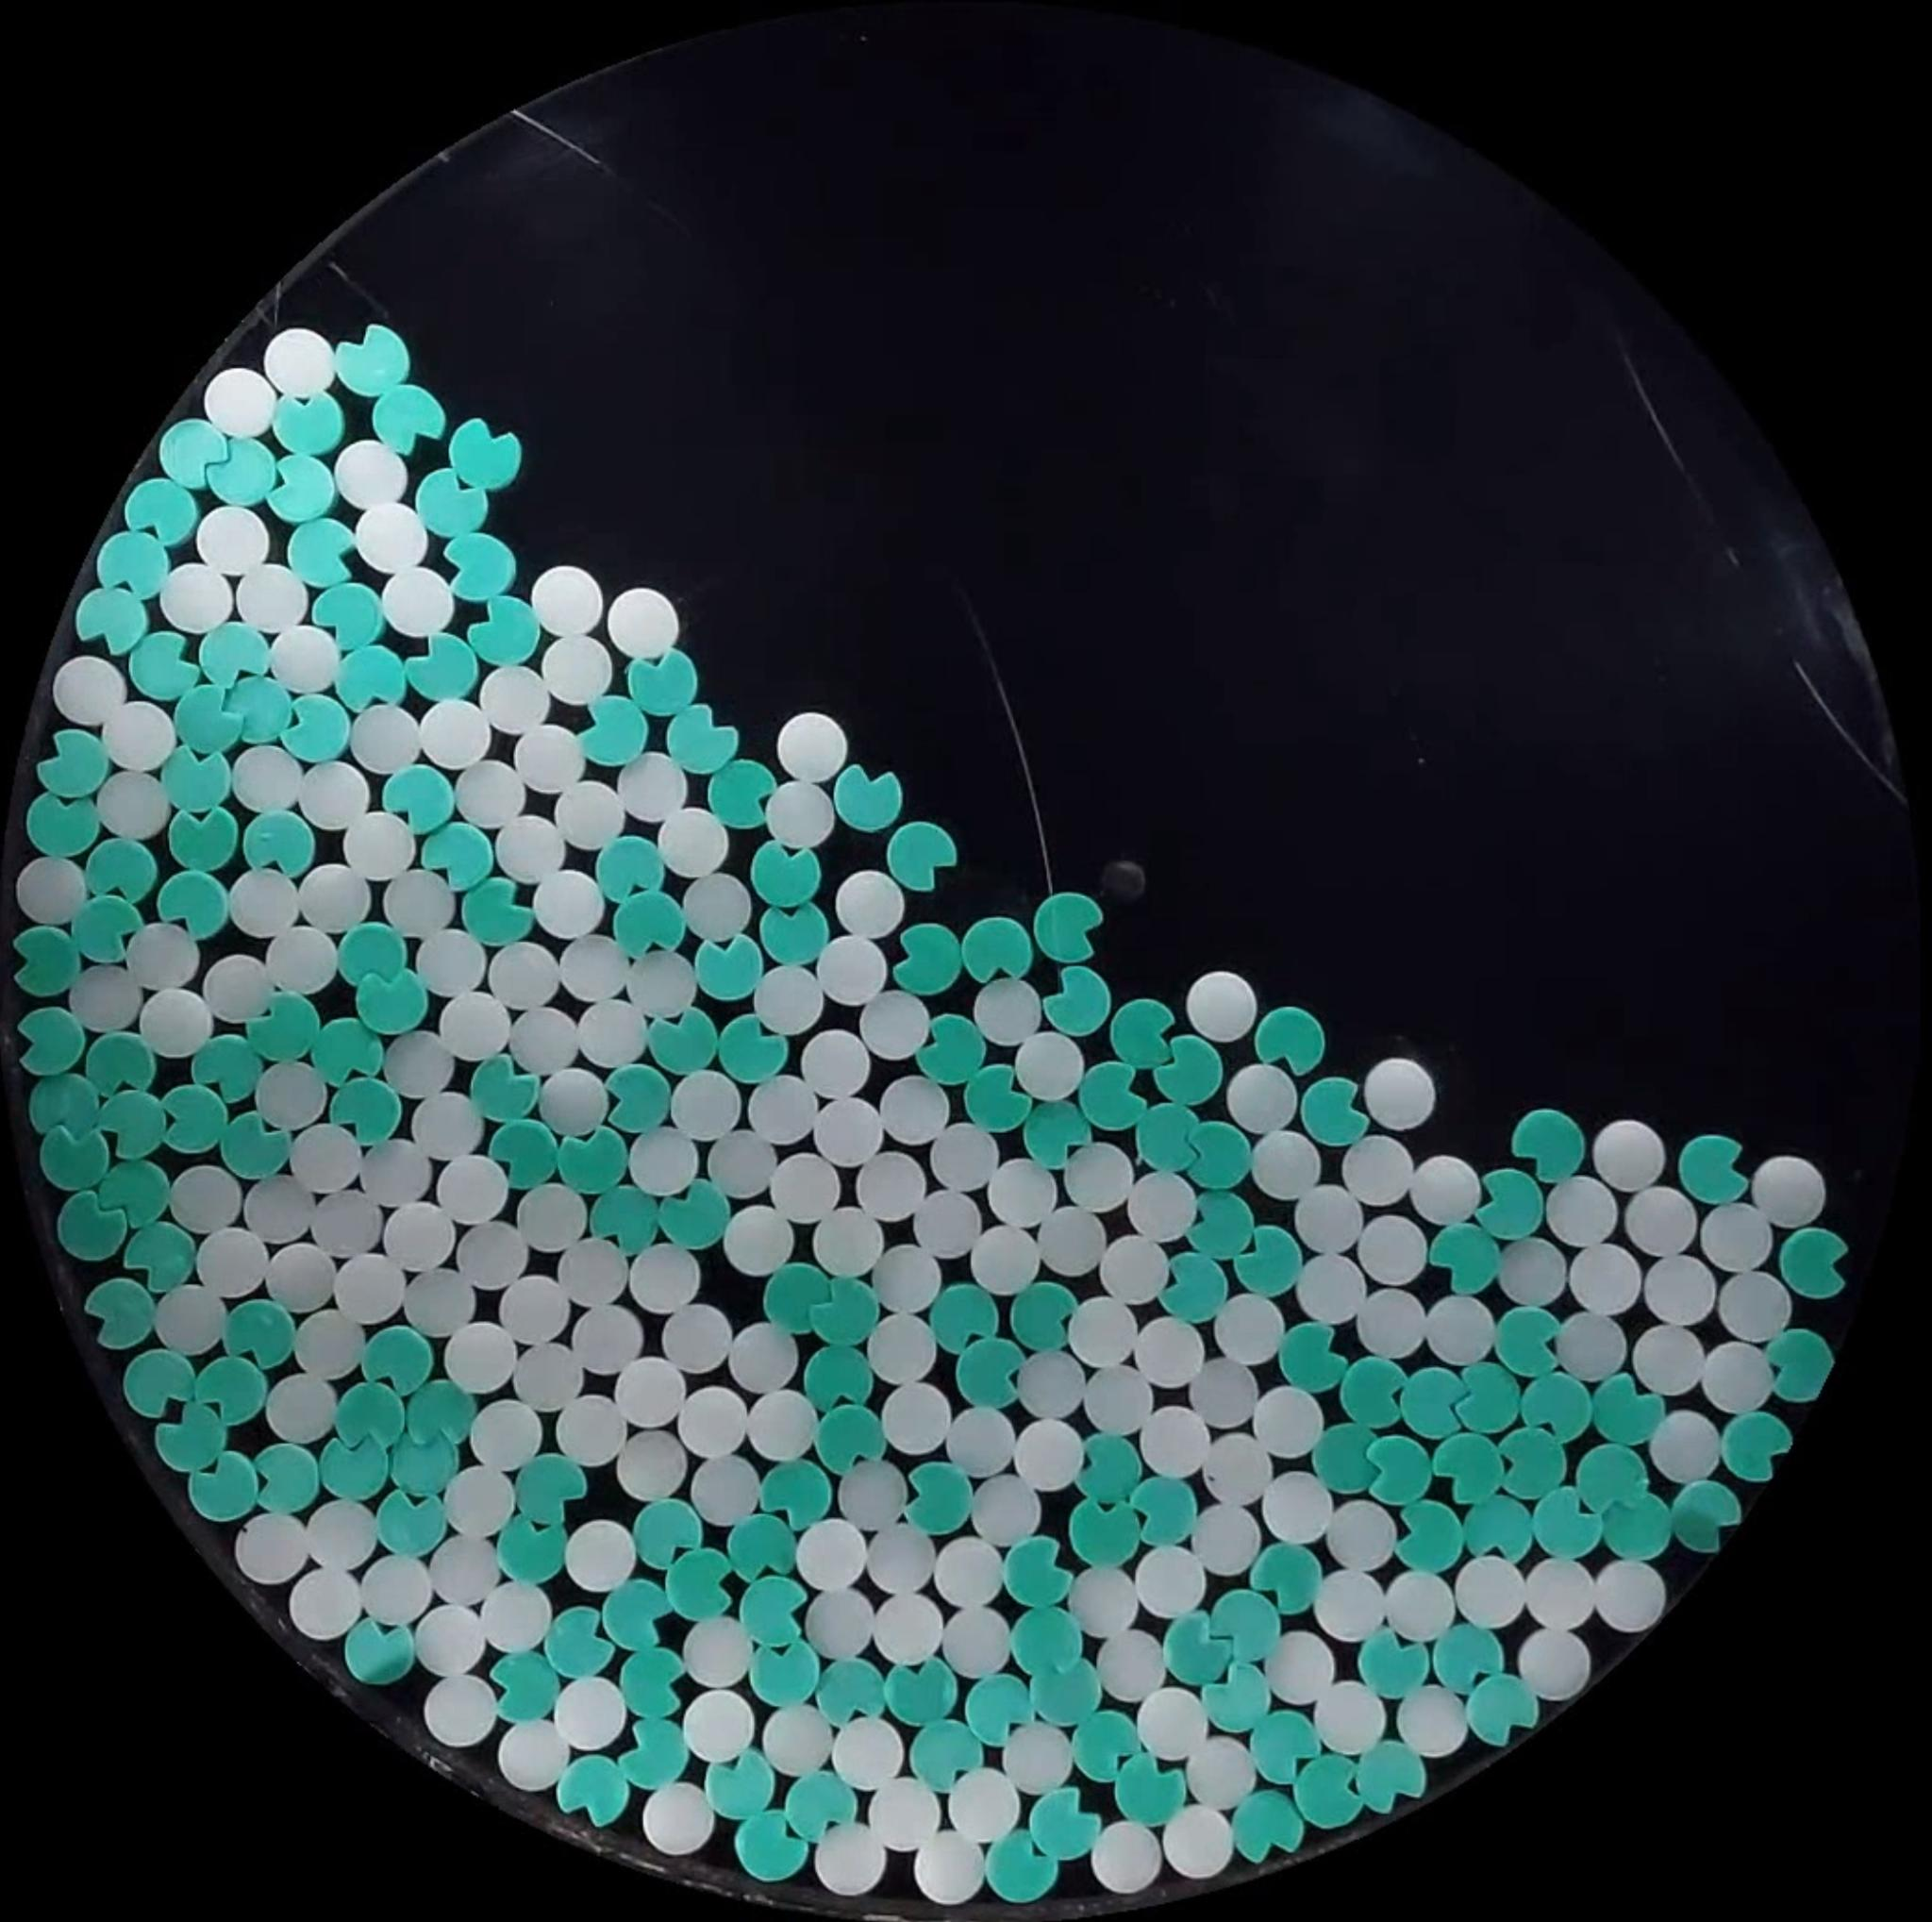disco-pmma: (1008, 1399, 1091, 1489), (904, 1183, 992, 1265), (1309, 1667, 1390, 1757), (419, 922, 501, 1005), (1200, 1427, 1283, 1510), (392, 1081, 484, 1155), (457, 1214, 538, 1297), (1188, 1352, 1267, 1436), (282, 1119, 370, 1195), (294, 1302, 375, 1383), (494, 1265, 575, 1346), (1351, 1218, 1432, 1299), (1124, 1163, 1204, 1246), (860, 1519, 943, 1598), (1073, 1288, 1151, 1371), (936, 1600, 1015, 1679), (1353, 1280, 1431, 1361), (1311, 1566, 1390, 1644), (1638, 1251, 1717, 1329), (311, 1177, 389, 1257), (514, 1332, 593, 1410), (1258, 1464, 1337, 1542), (1747, 1153, 1828, 1229), (943, 1399, 1024, 1475), (929, 1531, 1005, 1612), (1253, 1128, 1339, 1199), (1517, 1623, 1594, 1700), (553, 1674, 630, 1751), (194, 1225, 271, 1302), (413, 1600, 491, 1677), (422, 1672, 500, 1750), (1086, 1357, 1163, 1434), (1631, 1320, 1710, 1396), (964, 1471, 1047, 1544), (1219, 1287, 1290, 1371), (1698, 1339, 1775, 1415), (1589, 1118, 1666, 1193), (287, 1565, 364, 1640), (494, 1716, 572, 1792), (1267, 1628, 1343, 1706), (739, 1387, 818, 1461), (1022, 1343, 1094, 1424), (1065, 1563, 1145, 1635), (760, 1149, 843, 1220), (961, 1221, 1045, 1290), (227, 866, 303, 942), (333, 1250, 408, 1325), (1379, 1568, 1455, 1644), (795, 1517, 871, 1593), (640, 1779, 716, 1855), (567, 1301, 642, 1376), (1453, 1552, 1529, 1628), (100, 697, 176, 773), (1716, 1267, 1791, 1343), (1566, 1239, 1642, 1315), (1133, 1544, 1207, 1621), (468, 1397, 545, 1471), (137, 984, 215, 1058), (1698, 1200, 1775, 1274), (926, 1125, 1003, 1199), (267, 1246, 347, 1318), (563, 1517, 637, 1593), (1364, 1056, 1439, 1130), (760, 1702, 836, 1776), (1591, 1558, 1666, 1632), (1138, 1403, 1212, 1478), (871, 1588, 947, 1662), (1135, 1684, 1209, 1760), (236, 1510, 311, 1584), (681, 1688, 757, 1762), (947, 1767, 1021, 1843), (1647, 1408, 1721, 1484), (51, 653, 127, 727), (1181, 1735, 1256, 1809), (1624, 1185, 1700, 1258), (428, 1533, 501, 1609), (1255, 1382, 1328, 1457), (1529, 1558, 1605, 1632), (443, 1320, 521, 1392), (352, 500, 429, 572), (357, 1554, 435, 1626), (1161, 1804, 1233, 1882), (354, 1137, 431, 1209), (1230, 1067, 1309, 1137), (609, 1359, 690, 1427), (477, 1581, 558, 1649), (1283, 1183, 1365, 1250), (867, 1778, 941, 1852), (676, 1385, 750, 1459), (801, 1026, 875, 1100), (1332, 1496, 1406, 1570), (1543, 1169, 1617, 1243), (417, 697, 493, 769), (296, 759, 371, 831), (554, 778, 630, 850), (493, 813, 568, 885), (538, 632, 614, 704), (626, 1243, 702, 1315), (656, 806, 732, 878), (267, 621, 343, 693), (382, 1200, 457, 1273), (296, 862, 371, 935), (378, 565, 454, 637), (95, 767, 171, 840), (811, 1093, 887, 1165), (333, 440, 410, 510), (194, 505, 271, 576), (229, 743, 306, 813), (169, 1162, 248, 1230), (815, 933, 889, 1005), (607, 586, 681, 658), (382, 866, 456, 938), (264, 327, 338, 400), (1423, 1292, 1497, 1364), (127, 921, 201, 993), (253, 1060, 327, 1132), (681, 1616, 755, 1688), (350, 701, 424, 773), (480, 664, 554, 736), (201, 952, 274, 1024), (14, 854, 86, 928), (1341, 1132, 1415, 1204), (1397, 1684, 1471, 1757), (869, 1315, 943, 1387), (1561, 1309, 1635, 1382), (436, 991, 512, 1061), (487, 940, 563, 1010), (531, 868, 607, 938), (831, 1716, 906, 1786), (530, 565, 605, 635), (158, 563, 234, 634), (670, 1068, 746, 1139), (148, 1285, 225, 1353), (405, 1267, 482, 1336), (556, 1387, 625, 1464), (239, 1179, 320, 1244), (1184, 970, 1256, 1042), (574, 996, 646, 1068), (454, 757, 526, 829), (683, 871, 755, 943), (1131, 1315, 1204, 1387), (815, 1823, 887, 1896), (913, 1830, 985, 1903), (809, 1197, 882, 1269), (728, 1206, 801, 1278), (801, 1584, 873, 1656), (234, 561, 308, 632), (264, 1371, 338, 1441), (765, 778, 839, 848), (204, 366, 278, 436), (433, 1153, 507, 1223), (69, 963, 143, 1033), (614, 1427, 688, 1498), (563, 933, 637, 1003), (1408, 1155, 1483, 1223), (662, 1306, 737, 1375), (725, 1331, 801, 1399), (1302, 1253, 1371, 1329), (875, 1075, 952, 1142), (556, 1237, 633, 1304), (380, 1031, 459, 1097), (1029, 1216, 1110, 1280), (626, 1126, 699, 1197), (512, 722, 584, 792), (1001, 1721, 1073, 1792), (753, 963, 825, 1033), (1014, 1030, 1086, 1100), (341, 810, 415, 878), (264, 924, 338, 993), (628, 949, 697, 1023), (857, 1139, 924, 1214), (509, 1007, 584, 1074), (1494, 1237, 1570, 1304), (618, 752, 688, 822), (1091, 1822, 1161, 1892), (1191, 1503, 1262, 1574), (516, 1183, 588, 1251), (776, 711, 848, 780), (855, 991, 927, 1060), (971, 977, 1043, 1045), (690, 1454, 758, 1526), (836, 1461, 904, 1533), (1098, 1625, 1167, 1697), (1094, 1237, 1170, 1302), (834, 869, 904, 938), (442, 1463, 510, 1533), (306, 1498, 375, 1568), (896, 1382, 957, 1457), (880, 1244, 947, 1313), (757, 1077, 822, 1146), (991, 1162, 1054, 1232), (1066, 1139, 1126, 1211), (711, 1132, 776, 1197), (554, 1068, 611, 1135)
